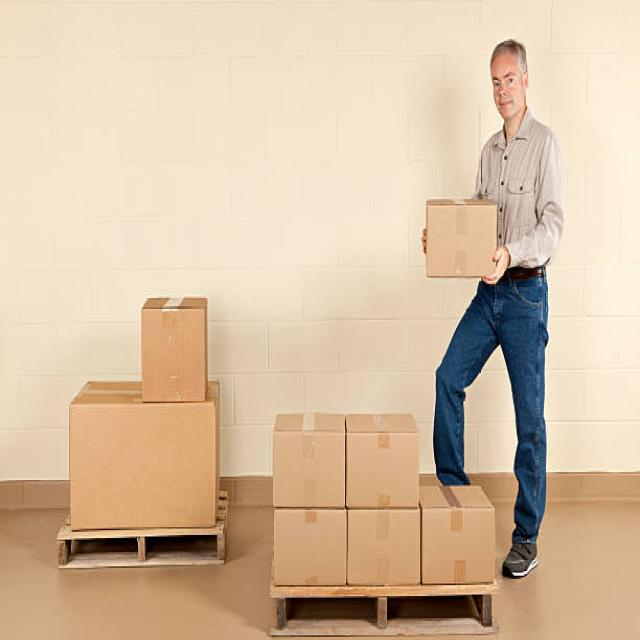Wooden-Pallets: (268, 584, 498, 638), (57, 528, 223, 572)
